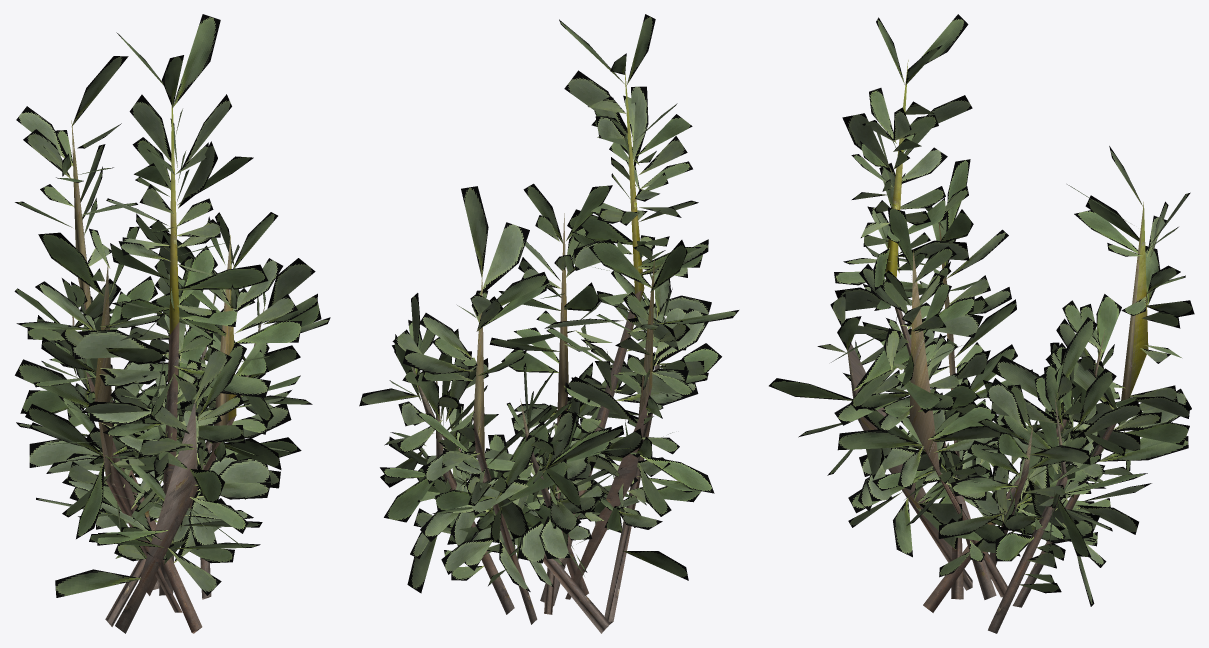
File: bush_f.glb
3 renders of one model, left to right at view 1: azimuth 30°, elevation 25°; view 2: azimuth 150°, elevation 25°; view 3: azimuth 270°, elevation 25°, orthographic. The views are drawn at different scales.
Parts seen in each view (by area): view 1: bush_f; view 2: bush_f; view 3: bush_f.
Boxes of the visible parts, box(x1,y1,x2,y2) form: bush_f: box(14, 14, 330, 633); bush_f: box(359, 14, 738, 633); bush_f: box(769, 14, 1194, 633).
Size of the model in its own units: 0.5768 by 0.9998 by 0.6703.
2 materials, 2 textured.
